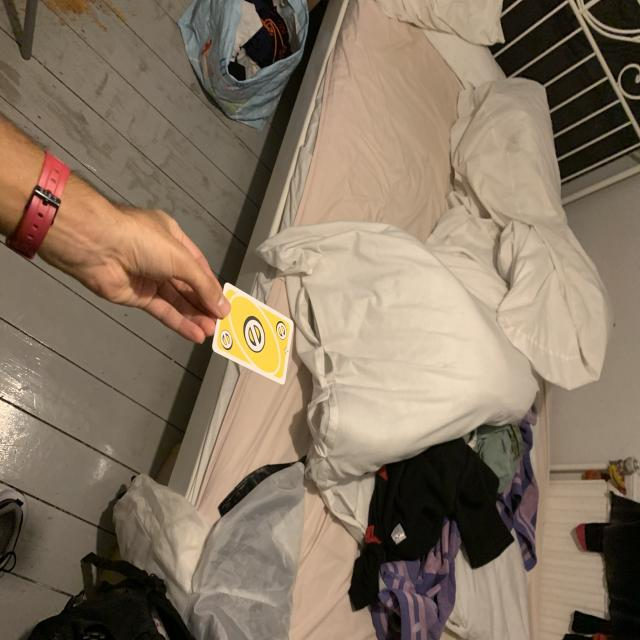lyellowskip-20: (272, 313, 293, 344)
